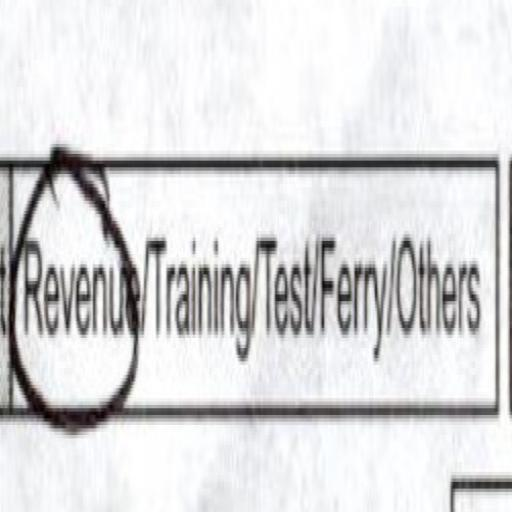check: (11, 139, 142, 488)
